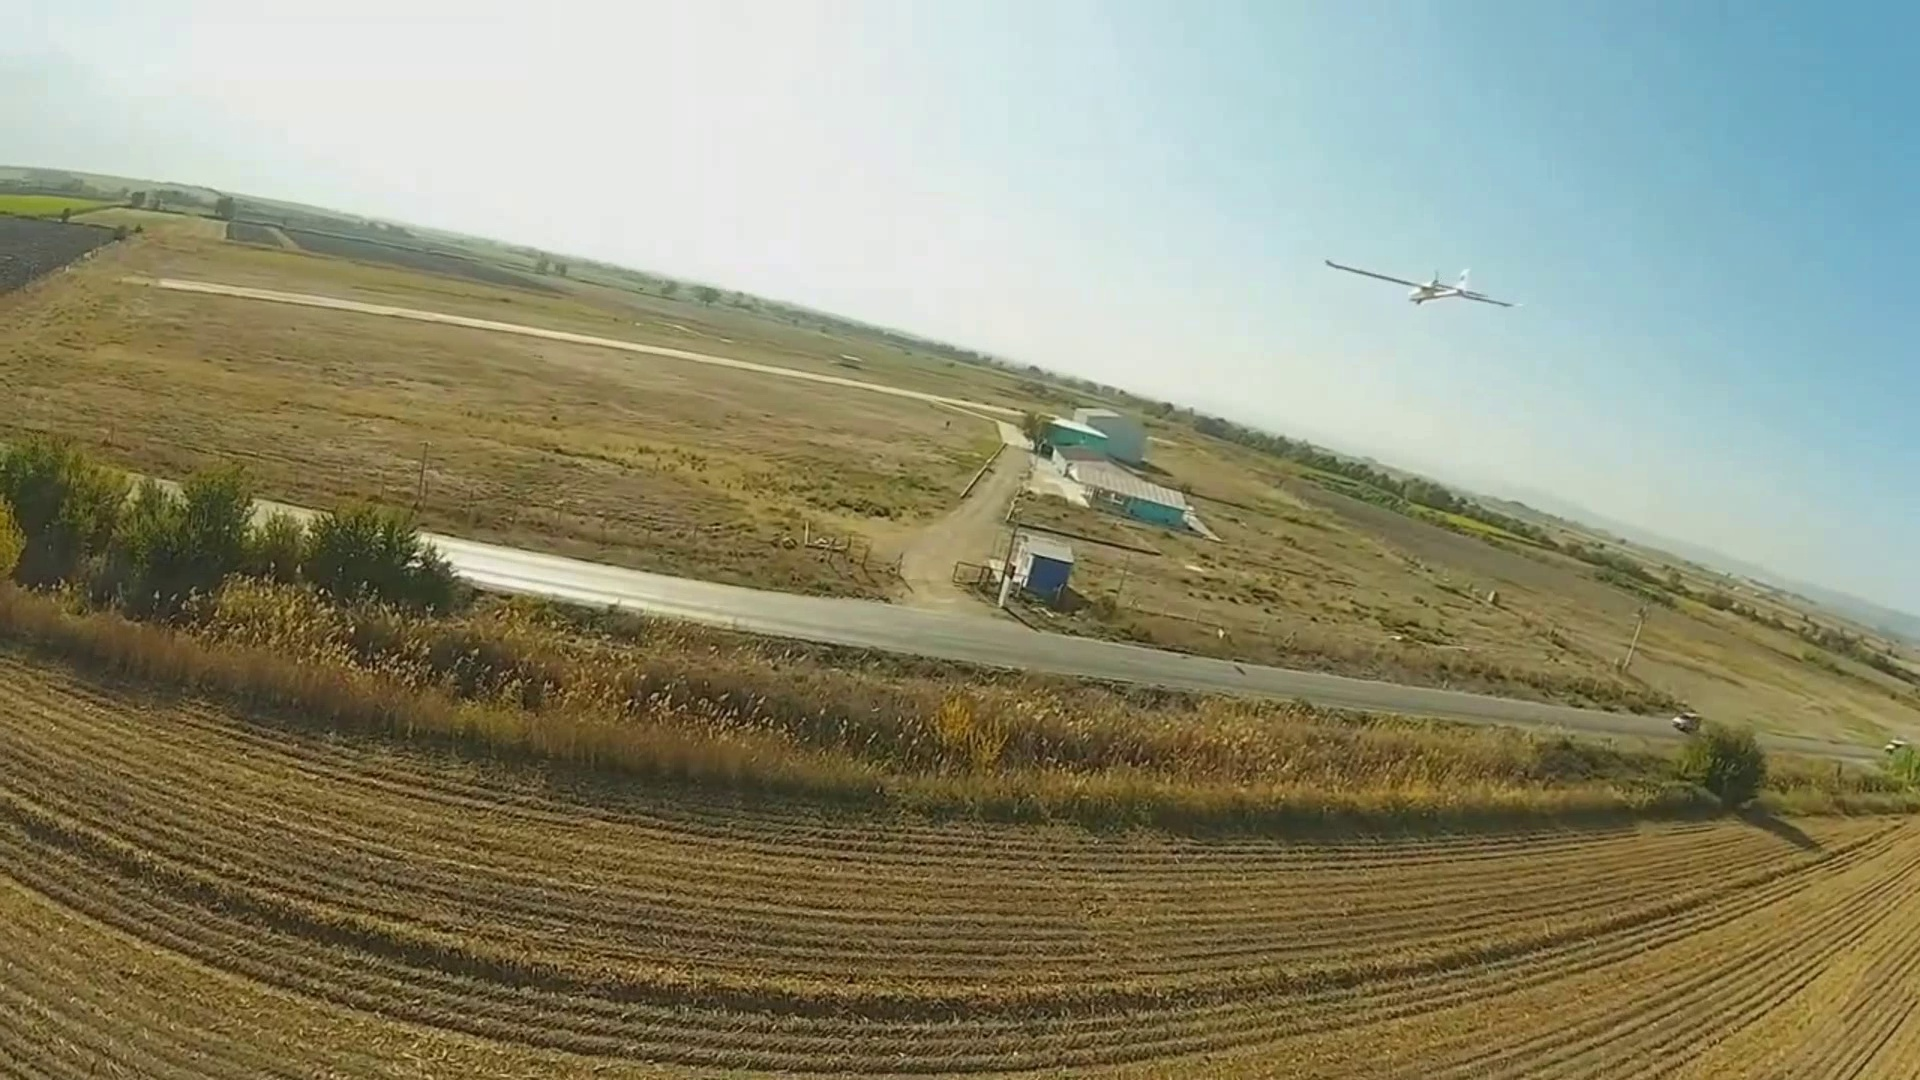airplane: (1324, 255, 1519, 310), (1375, 268, 1519, 309)
